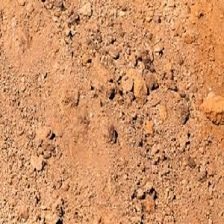clay_soil: (5, 18, 215, 208)
